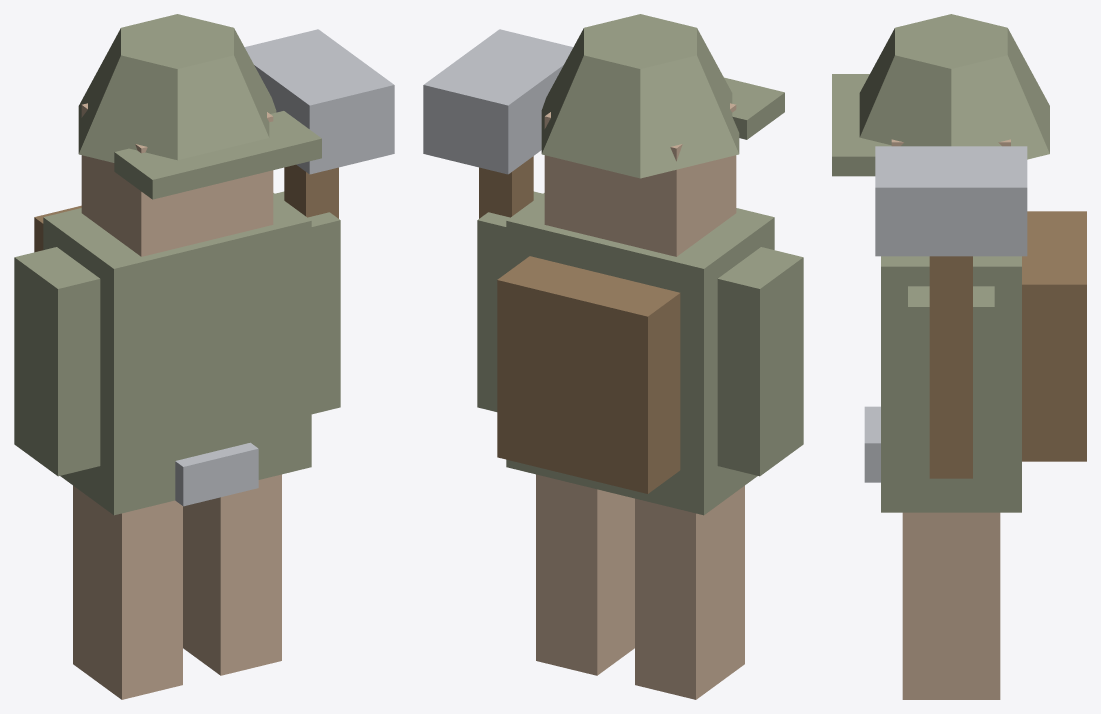
File: unit-engineer.glb
The picture shows the model from 3 angles, left to right: view 1: azimuth 30°, elevation 25°; view 2: azimuth 150°, elevation 25°; view 3: azimuth 270°, elevation 25°; orthographic projection.
Visible parts, largest first — view 1: unit-engineer; view 2: unit-engineer; view 3: unit-engineer.
Part boxes in pixels (x1,y1,x2,y2): unit-engineer: (14, 14, 394, 699); unit-engineer: (423, 14, 803, 699); unit-engineer: (832, 14, 1086, 699).
Size of the model in its own units: 0.34 by 0.63 by 0.235.
